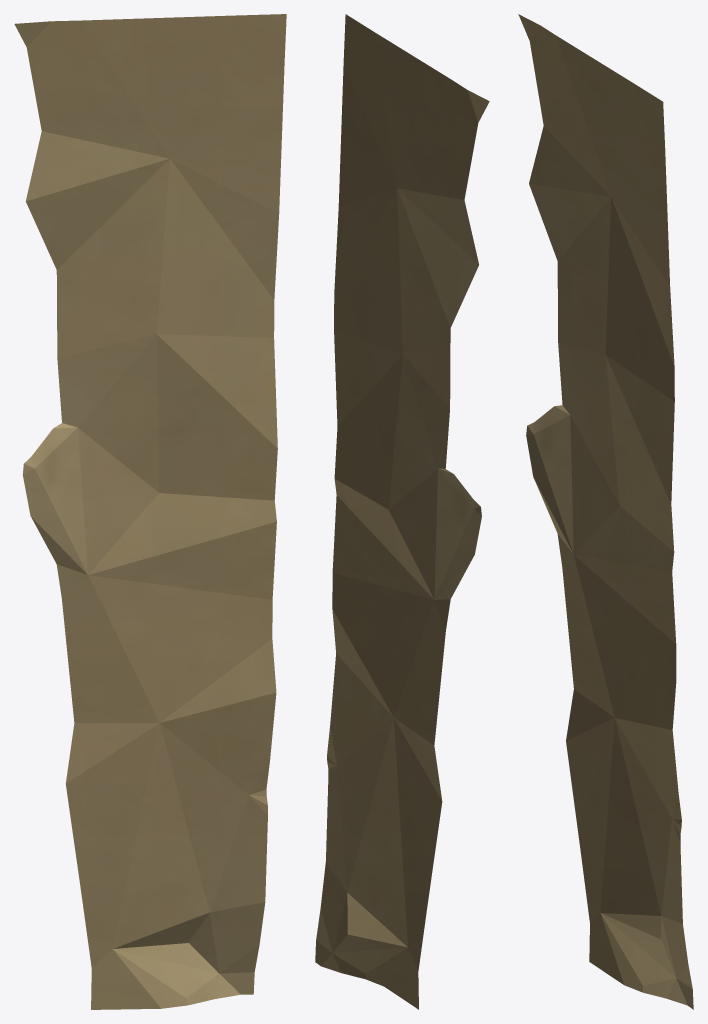
The picture shows the model from 3 angles, left to right: view 1: azimuth 30°, elevation 25°; view 2: azimuth 150°, elevation 25°; view 3: azimuth 330°, elevation 25°; orthographic projection. The views are drawn at different scales.
Size of the model in its own units: 0.187 by 0.8374 by 0.0876.
Materials: 1 (1 with a texture image).
